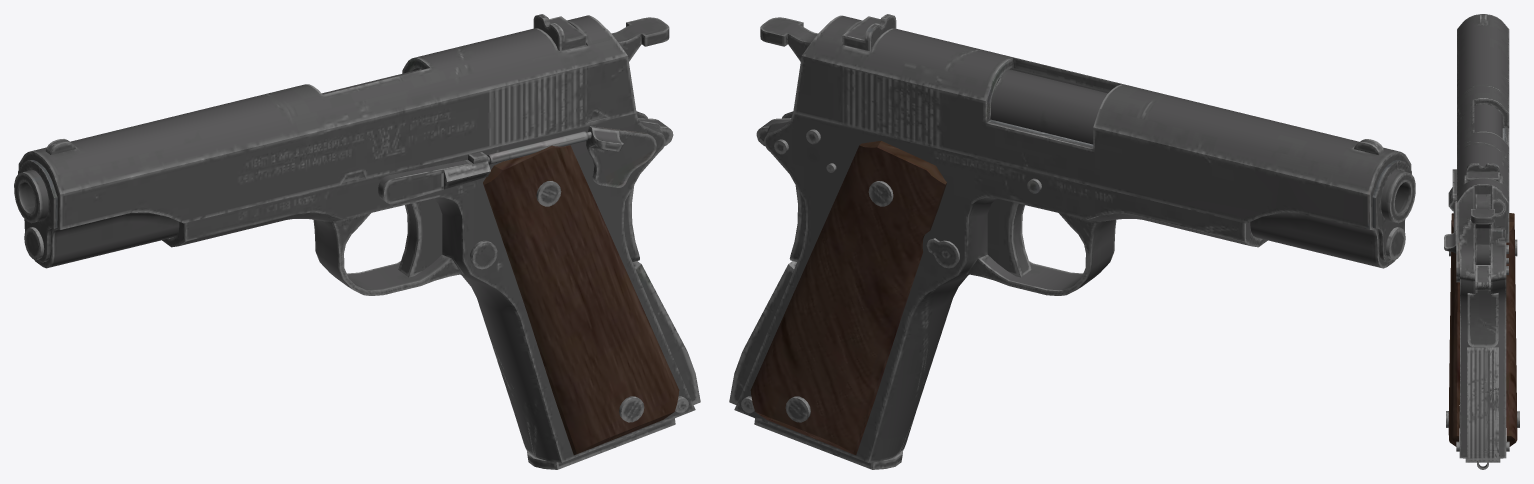
3 renders of one model, left to right at view 1: azimuth 30°, elevation 25°; view 2: azimuth 150°, elevation 25°; view 3: azimuth 270°, elevation 25°, orthographic. The views are drawn at different scales.
Parts seen in each view (by area): view 1: Cube_low, Cube.001_low, Plane_low, Cube.004_low, Cube.003_low, Cube.002_low, Cube.007_low, Cylinder_low, Cube.009_low, Cube.006_low, Cylinder.002_low, Cube.005_low (+3 smaller); view 2: Cube_low, Plane_low, Cube.001_low, Cylinder_low, Cube.002_low, Cube.007_low, Cylinder.002_low, Cube.009_low, Cube.006_low, Cube.005_low, Cube.012_low, Cube.008_low (+1 smaller); view 3: Cube_low, Plane_low, Cube.001_low, Cube.007_low, Cube.008_low, Cube.009_low, Cylinder_low, Cube.005_low, Cube.004_low, Cylinder.002_low, Cube.003_low, Cube.011_low (+2 smaller).
Boxes of the visible parts, <box> form: Cube_low: <box>18,15,636,268</box>; Cube.001_low: <box>483,145,679,455</box>; Plane_low: <box>162,111,695,462</box>; Cube.004_low: <box>586,126,656,187</box>; Cube.003_low: <box>378,152,490,204</box>; Cube.002_low: <box>398,198,442,277</box>; Cube.007_low: <box>633,261,700,404</box>; Cylinder_low: <box>14,69,421,223</box>; Cube.009_low: <box>611,17,669,61</box>; Cube.006_low: <box>18,160,57,262</box>; Cylinder.002_low: <box>536,181,688,422</box>; Cube.005_low: <box>533,14,587,50</box>; Cube_low: <box>793,15,1411,268</box>; Plane_low: <box>734,111,1267,462</box>; Cube.001_low: <box>750,141,946,455</box>; Cylinder_low: <box>990,69,1415,223</box>; Cube.002_low: <box>987,199,1031,277</box>; Cube.007_low: <box>729,261,796,404</box>; Cylinder.002_low: <box>741,129,1041,422</box>; Cube.009_low: <box>760,17,818,61</box>; Cube.006_low: <box>1372,160,1411,262</box>; Cube.005_low: <box>842,14,896,51</box>; Cube.012_low: <box>754,418,903,469</box>; Cube.008_low: <box>756,118,805,261</box>; Cube_low: <box>1457,14,1509,242</box>; Plane_low: <box>1459,128,1506,458</box>; Cube.001_low: <box>1448,213,1517,446</box>; Cube.007_low: <box>1467,347,1498,460</box>; Cube.008_low: <box>1467,265,1498,347</box>; Cube.009_low: <box>1471,194,1494,264</box>; Cylinder_low: <box>1474,104,1502,138</box>; Cube.005_low: <box>1466,163,1499,182</box>; Cube.004_low: <box>1444,231,1459,282</box>; Cylinder.002_low: <box>1446,239,1519,451</box>; Cube.003_low: <box>1448,169,1456,211</box>; Cube.011_low: <box>1492,200,1504,214</box>.
Bounding box in the file's own units: 1500 × 952 × 237.
1 material, 1 textured.
